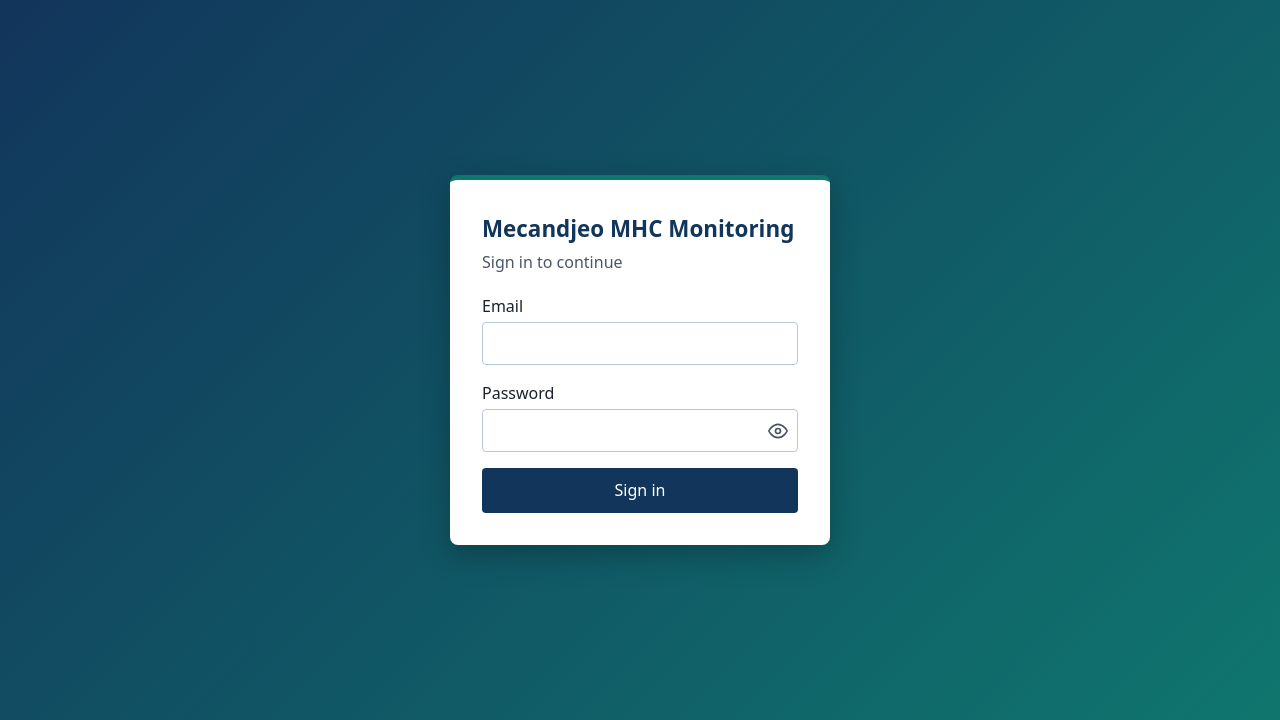
Test: LoginPage › disables the button and shows progress while signing in
Type "operator1@example.com" into the field labelled "Email".
click(640, 344); type("operator1@example.com")  # box [482,322,798,365]
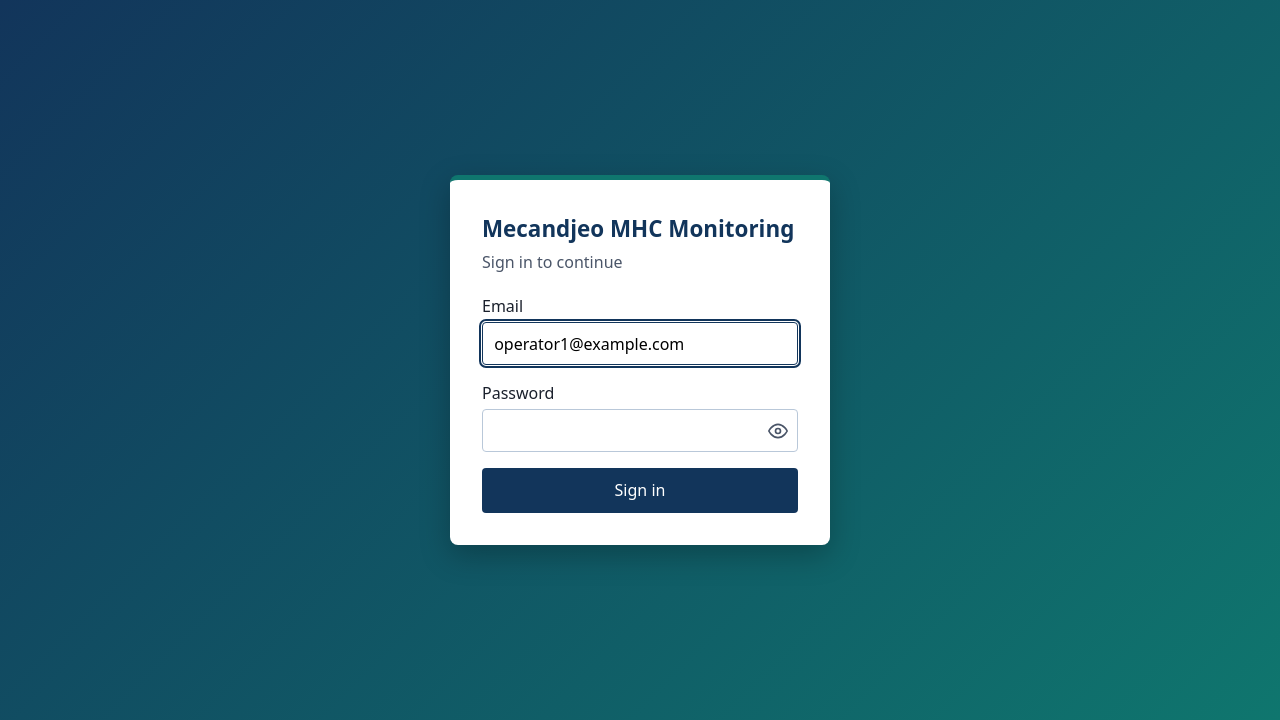
Type "Securepass123!" into the password field labelled "Password".
click(640, 431); type("Securepass123!")  # box [482,409,798,452]
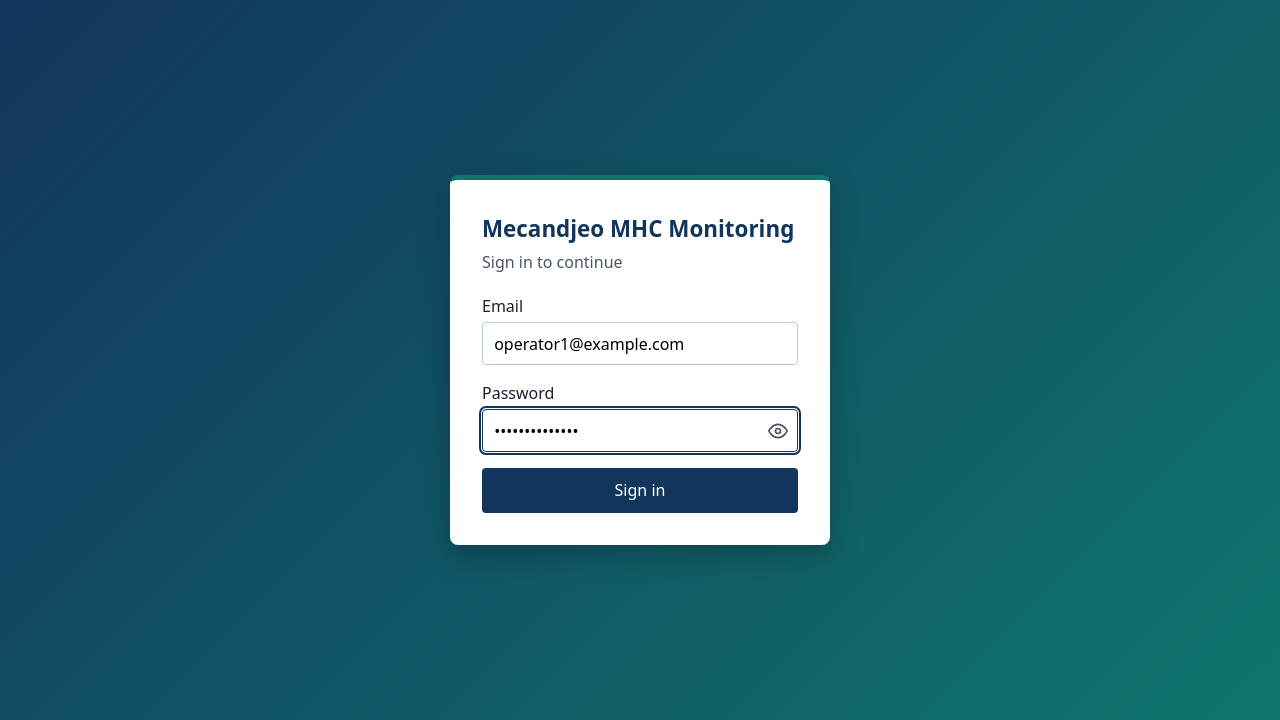
Click the button "Sign in".
click(640, 490)  # box [482,468,798,513]
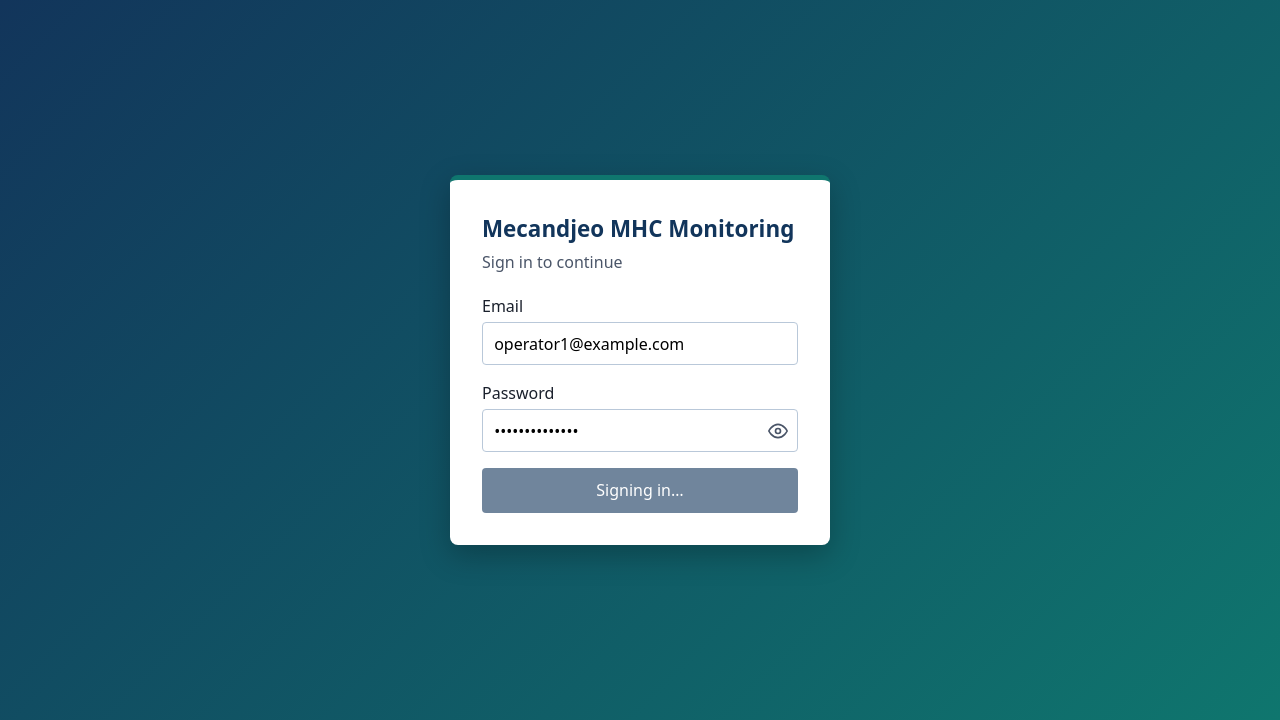
Result: the button "Signing in…" is disabled at [482,468,798,513]
